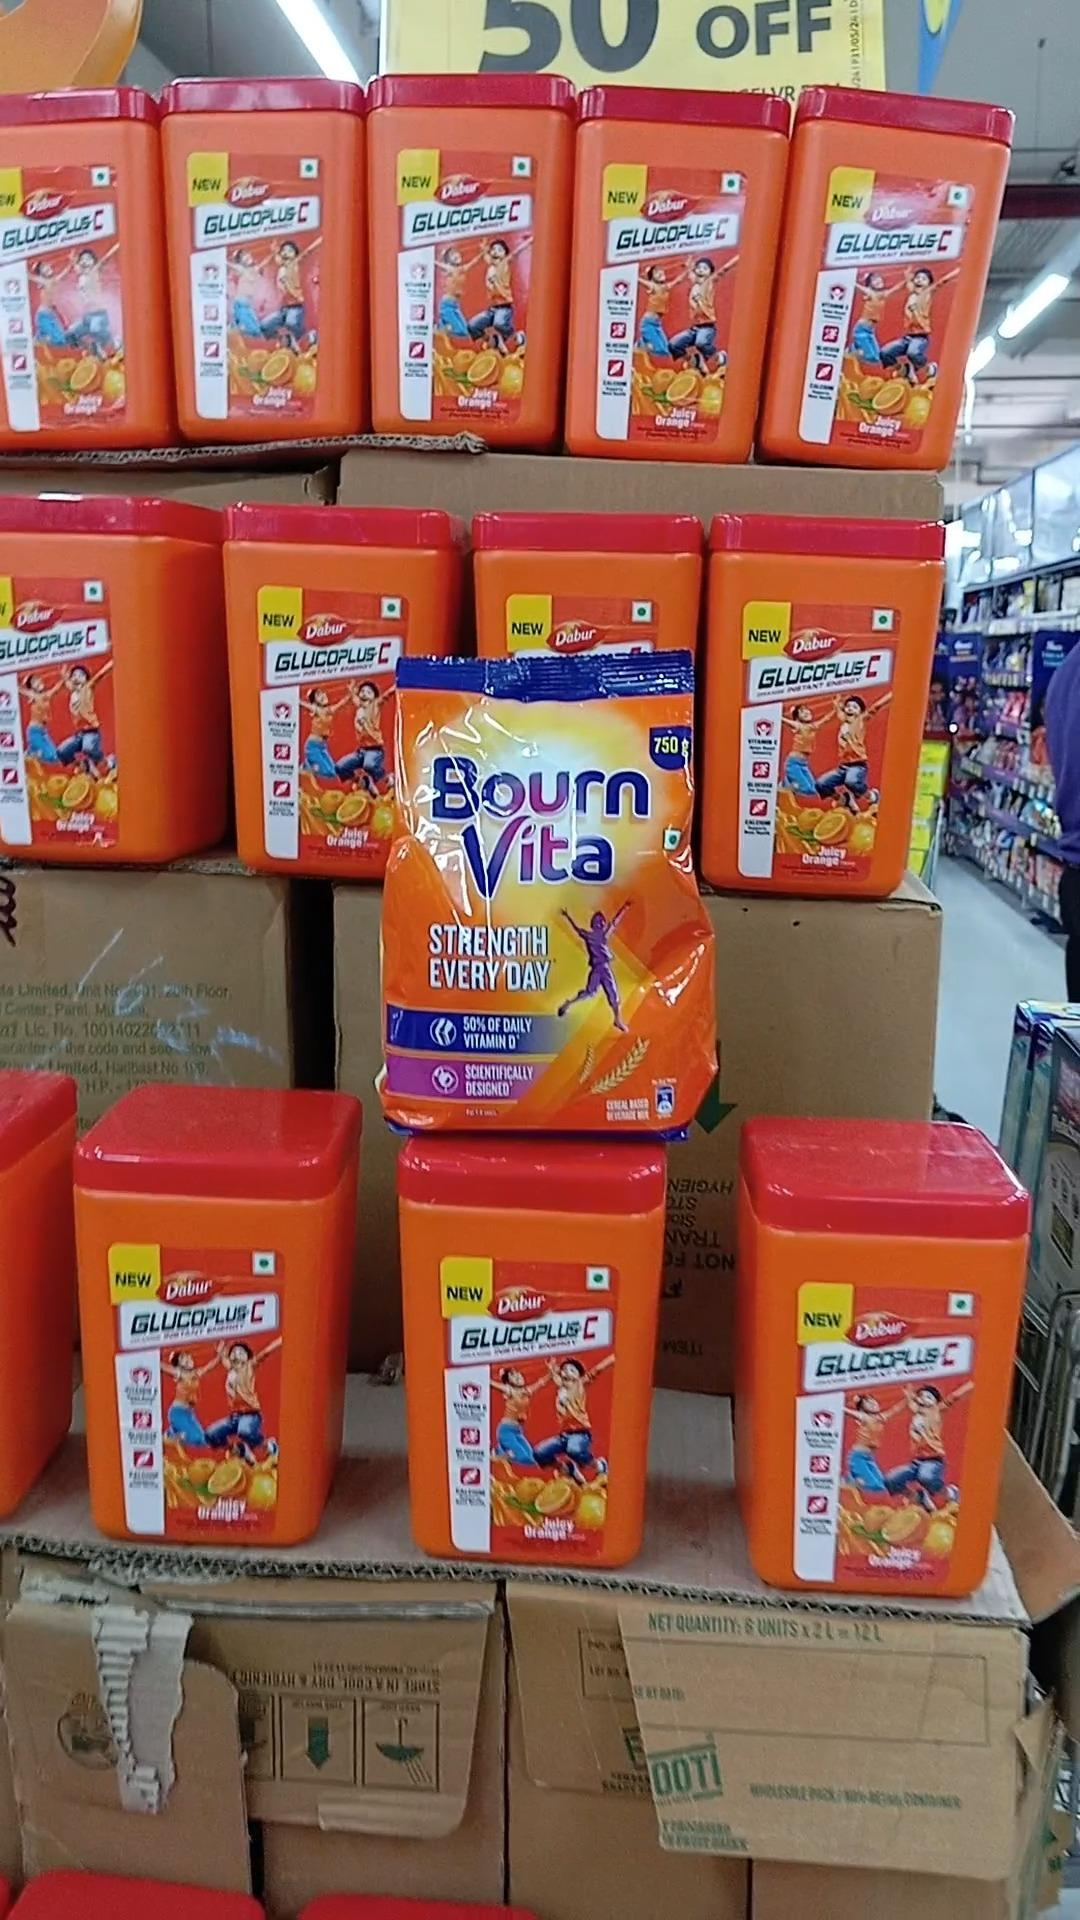BOURN_VITA_750_G_POUCH: (393, 640, 700, 1137)
